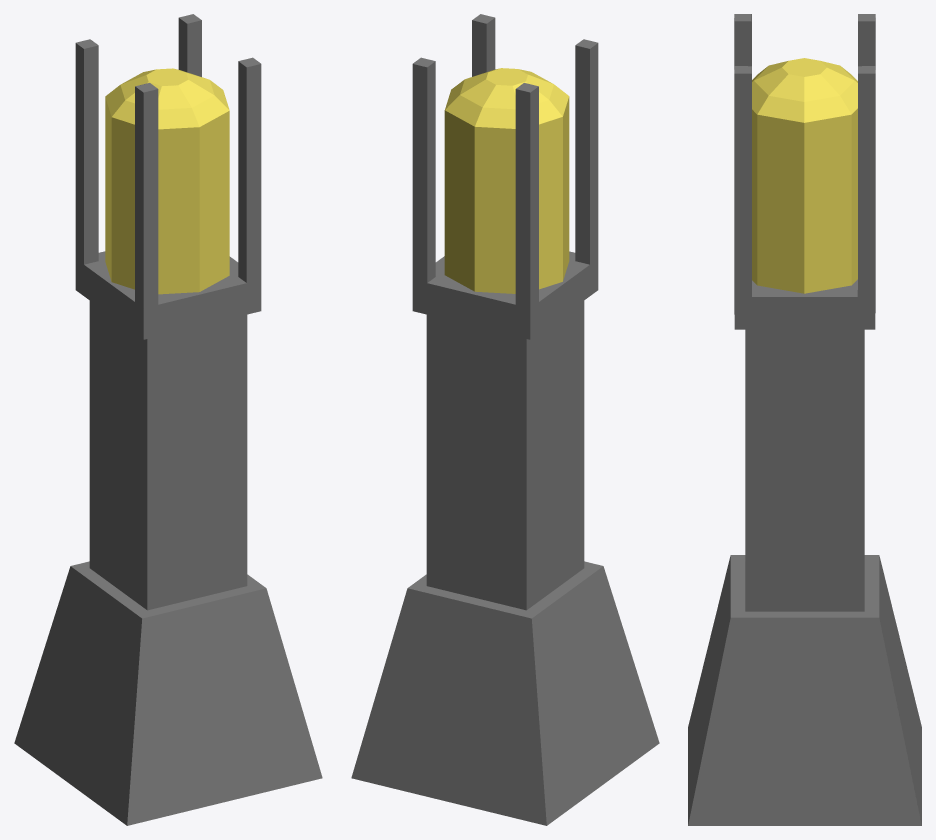
File: waypoint.obj
3 views of the same model, side by side, from view 1: azimuth 30°, elevation 25°; view 2: azimuth 150°, elevation 25°; view 3: azimuth 270°, elevation 25° (orthographic). The views are drawn at different scales.
Visible parts, largest first — view 1: Cube; view 2: Cube; view 3: Cube.
Boxes of the visible parts, <box> form: Cube: <box>14,14,322,825</box>; Cube: <box>351,14,659,825</box>; Cube: <box>688,14,921,825</box>.
Bounding box in the file's own units: 4 × 13.82 × 4.
